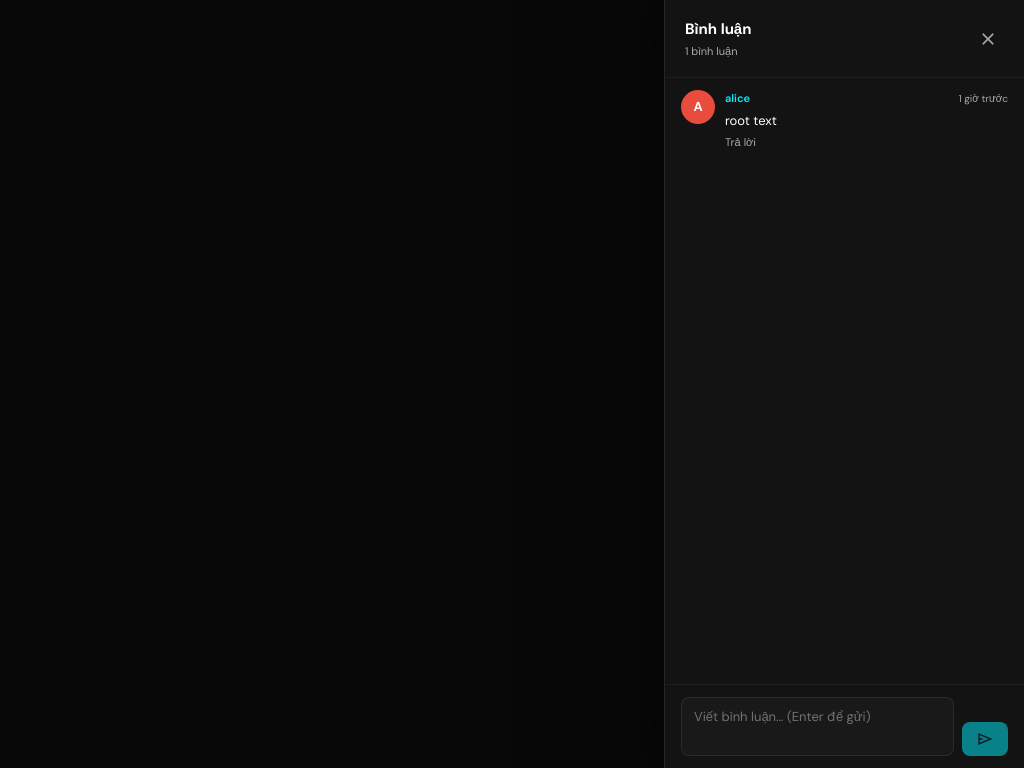
Test: CommentPanel › shows the server error inline and keeps the reply text
Expected: the text "root text" is shown, x1=725 y1=112 x2=777 y2=128
Click the button "Trả lời" at (740, 142), box x1=725 y1=134 x2=756 y2=150
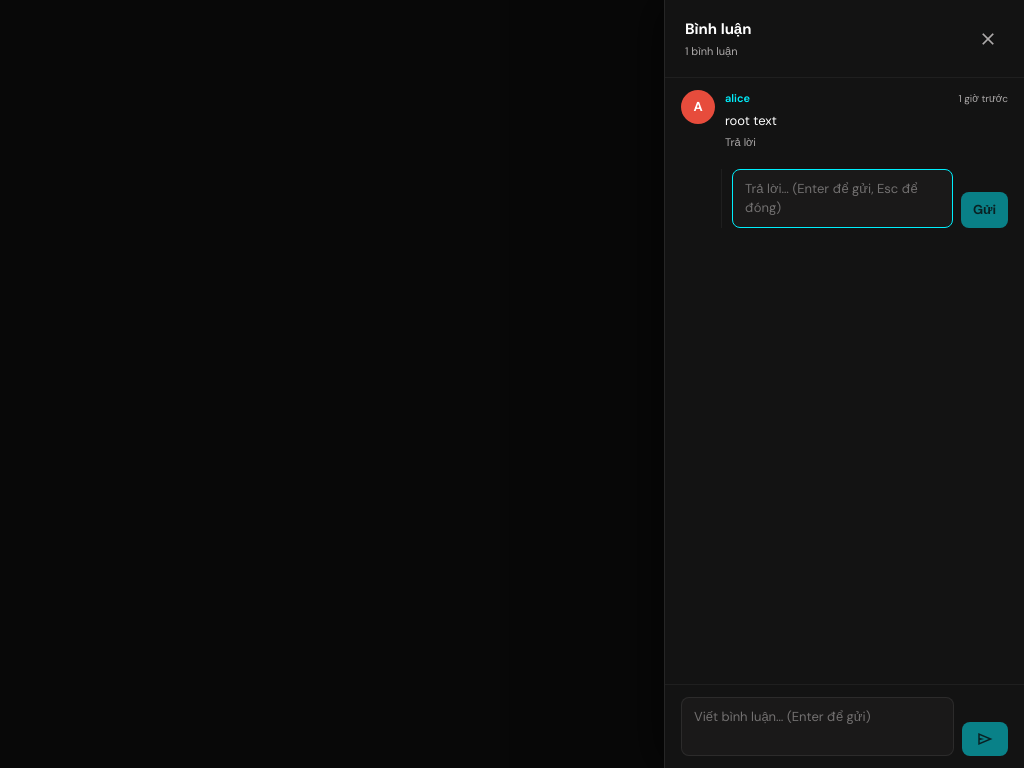
Type "oops" into the text box named "Phản hồi" at (842, 198), box x1=732 y1=168 x2=953 y2=228
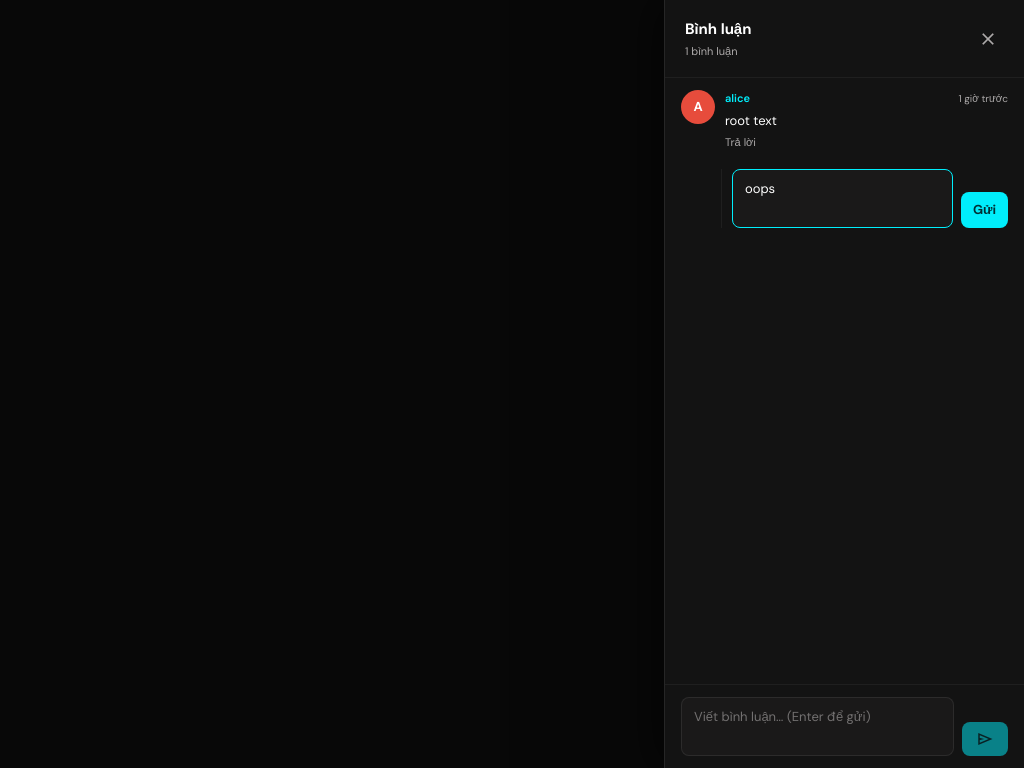
Press Enter in the text box named "Phản hồi", box x1=732 y1=168 x2=953 y2=228
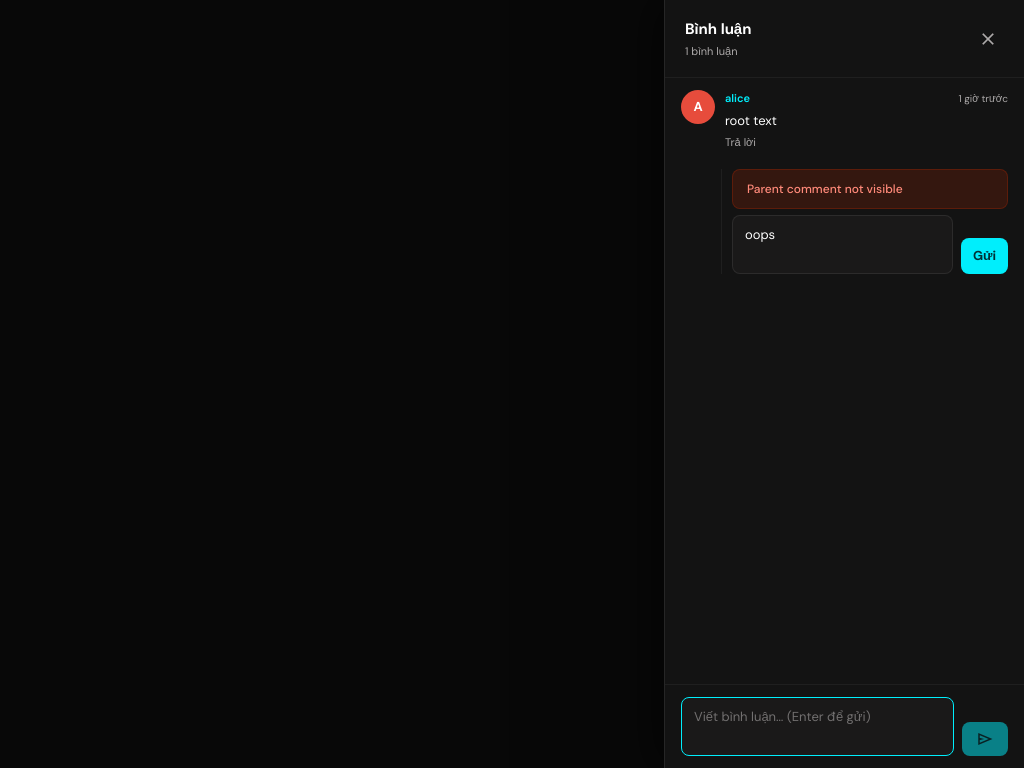
Expected: the message reads "Parent comment not visible", x1=747 y1=180 x2=903 y2=196
